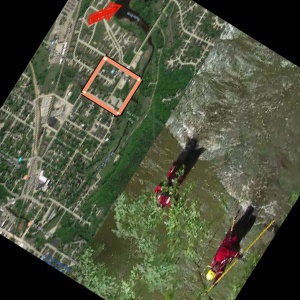square: (80, 54, 144, 117)
